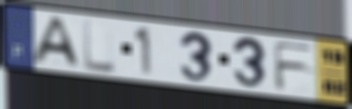1: (131, 25, 153, 77)
3: (177, 29, 220, 85), (230, 34, 270, 91)
A: (28, 16, 84, 70)
F: (271, 40, 318, 92)
L: (81, 18, 118, 75)
